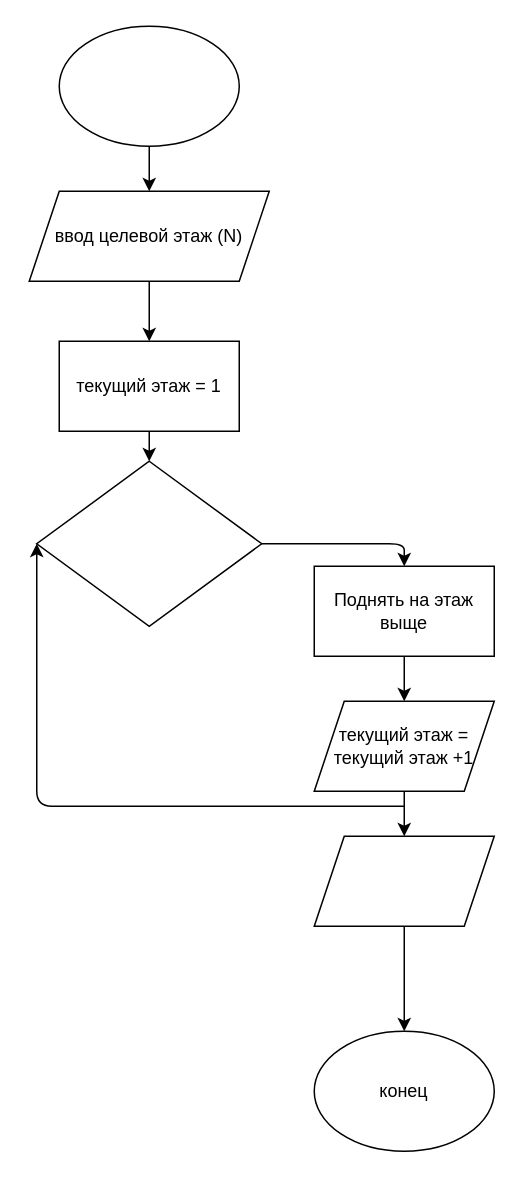
Some shapes in this 521 by 1178 pixel diagram are drawn without their labels. Each missing label, with the box of its shape:
Вы на целевом этаже: (313, 835, 494, 926)
начало: (58, 25, 239, 146)
Текущий этаж < n?: (35, 460, 262, 626)
